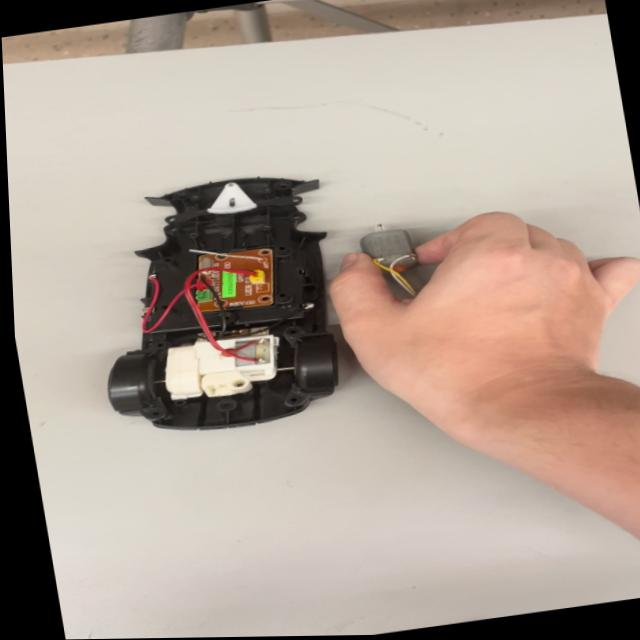Chassis: (88, 162, 356, 442)
motor: (348, 215, 415, 285)
